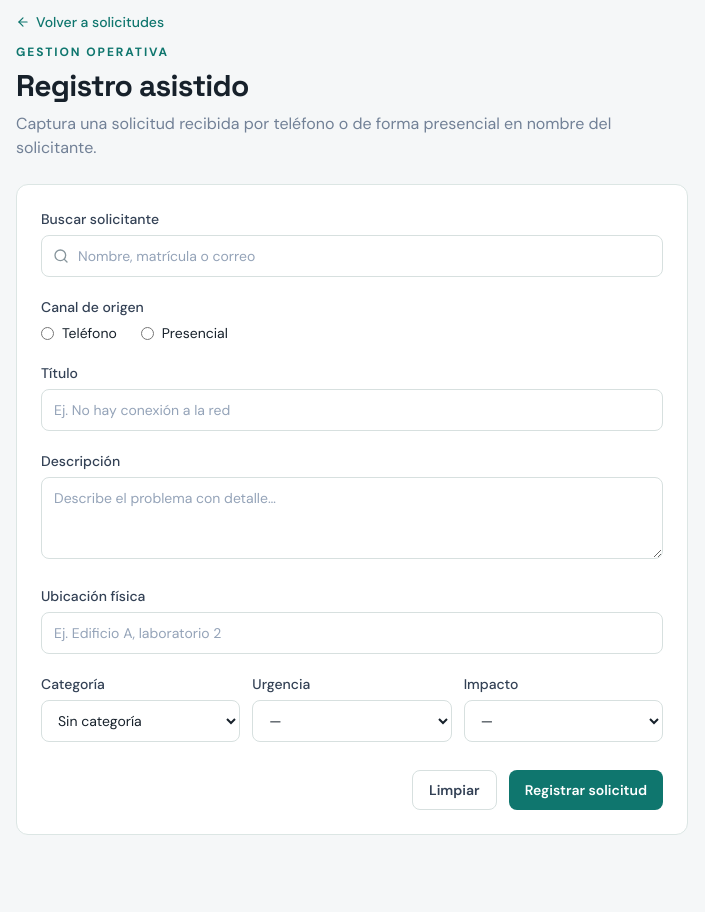
RegistroAsistidoPage: registro asistido (S3-09, HU-01.3) › sin llenar nada muestra todos los errores y no envía
Click the button "Registrar solicitud" at (586, 790), box [509,770,663,810]
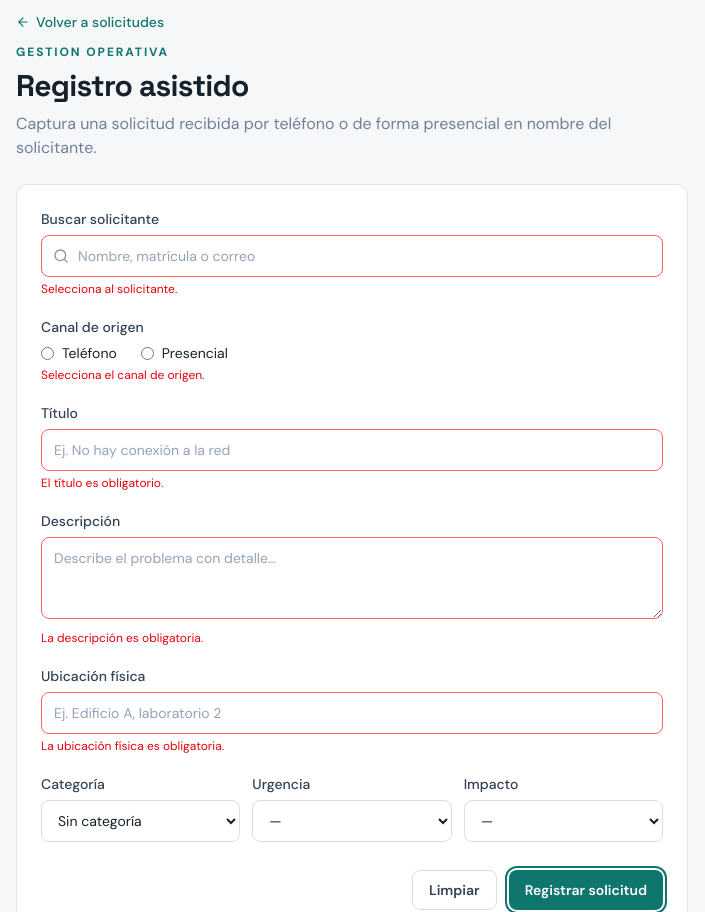
Check: the text "Selecciona al solicitante." is shown, box [41,281,177,297]
Check: the text "Selecciona el canal de origen." is shown, box [41,367,204,383]
Check: the text "El título es obligatorio." is shown, box [41,475,163,491]
